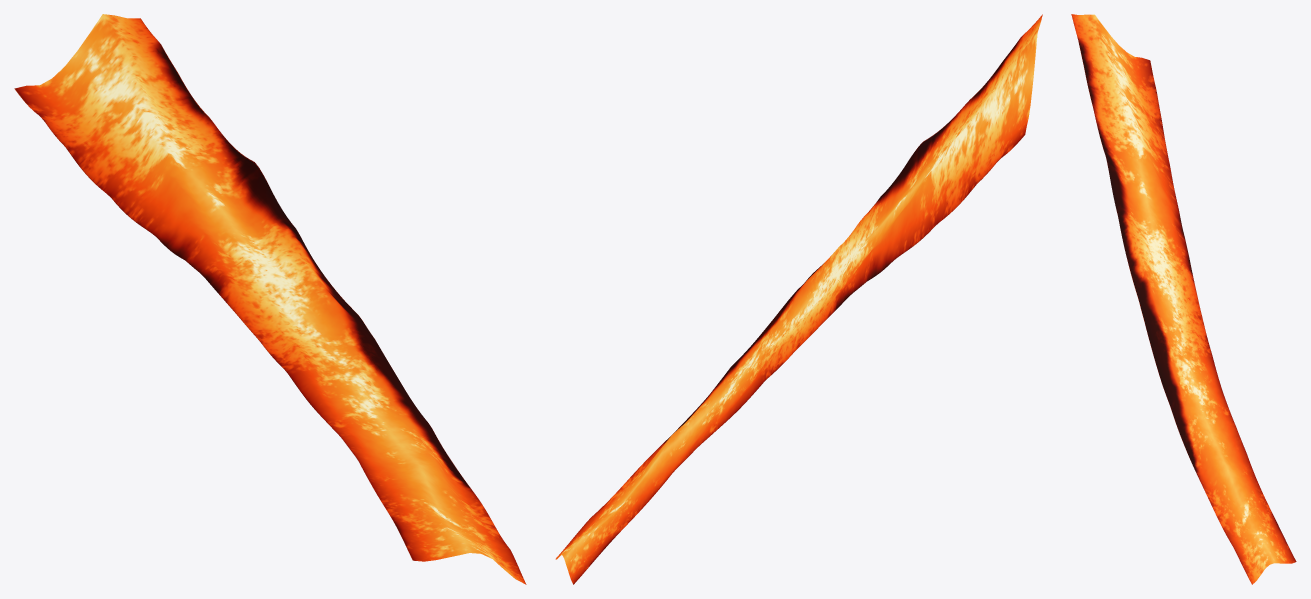
Rendered from flow_1_2.glb.
The picture shows the model from 3 angles, left to right: view 1: azimuth 30°, elevation 25°; view 2: azimuth 150°, elevation 25°; view 3: azimuth 270°, elevation 25°; orthographic projection. The views are drawn at different scales.
Size of the model in its own units: 13.68 by 17.8 by 8.46.
